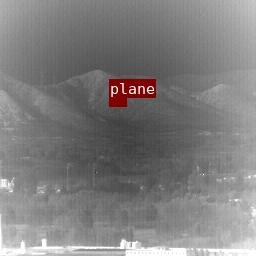plane: (109, 98, 126, 106)
